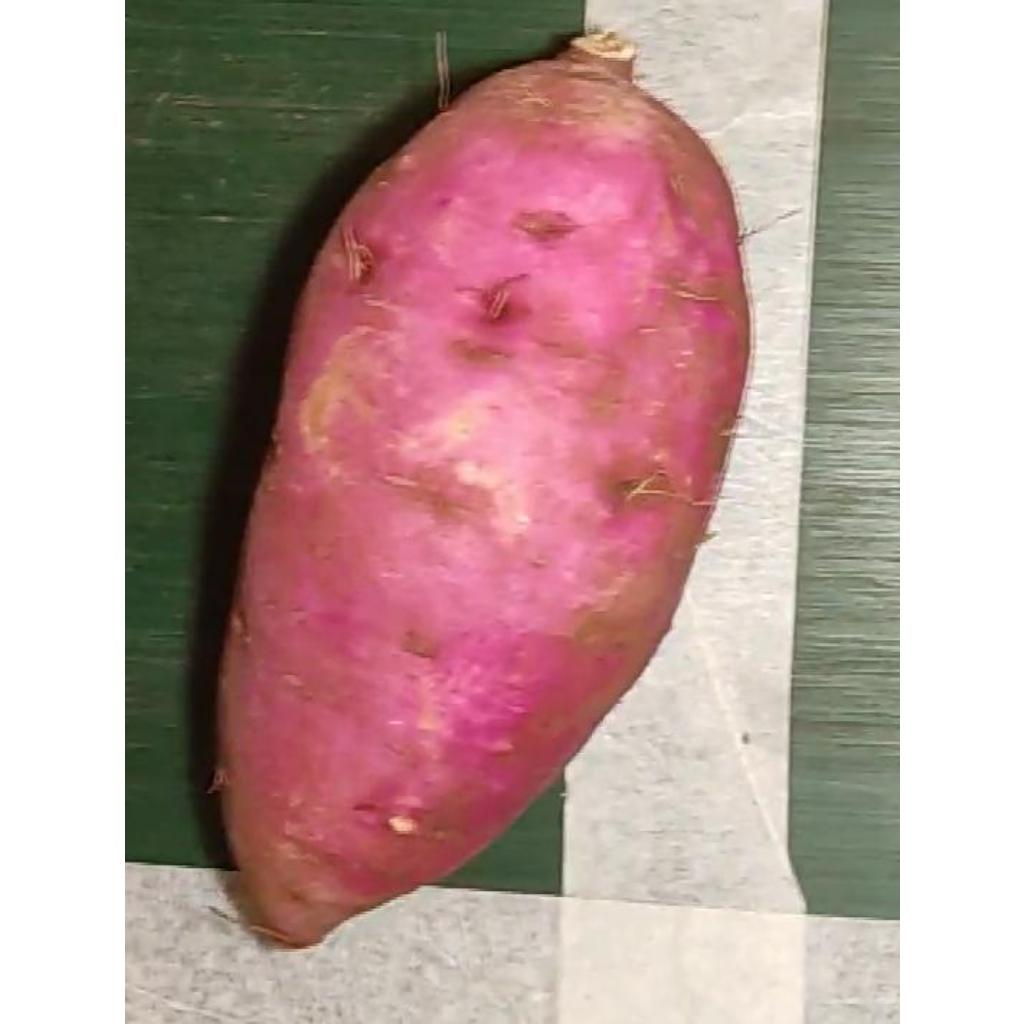Sweet Potato: (211, 30, 753, 952)
